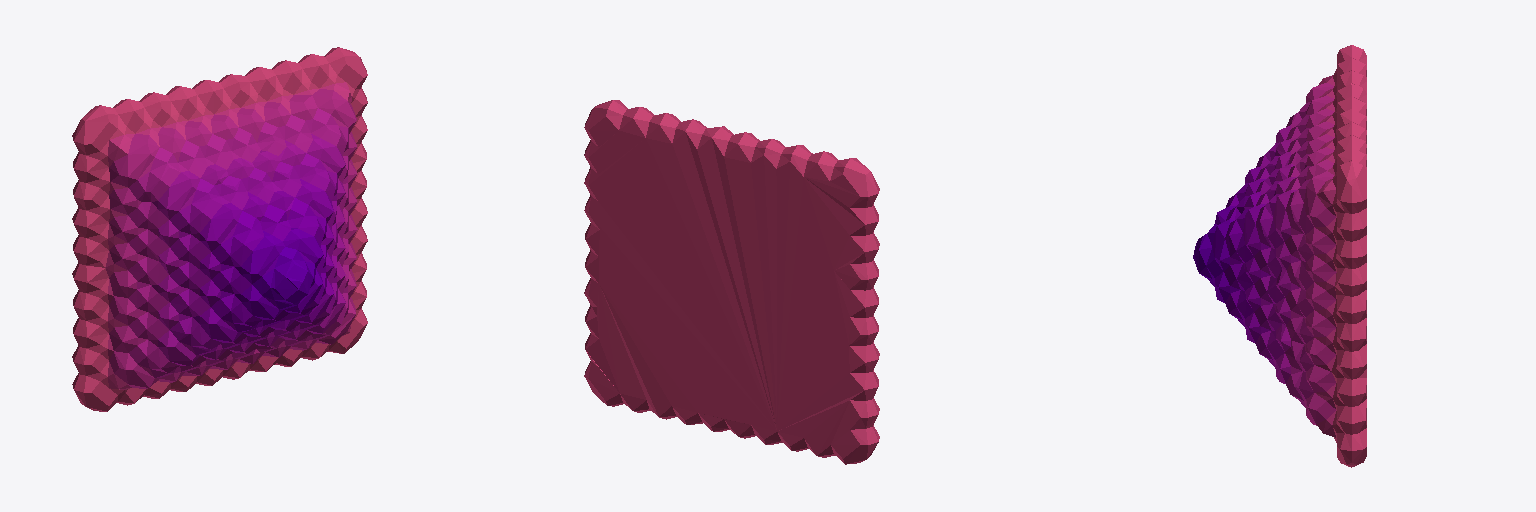
The model's file is testCode_Cmake_mac.obj.
The picture shows the model from 3 angles: view 1: azimuth 30°, elevation 25°; view 2: azimuth 150°, elevation 25°; view 3: azimuth 270°, elevation 25°; orthographic projection.
Parts seen in each view (by area): view 1: vivid_3d_obj; view 2: vivid_3d_obj; view 3: vivid_3d_obj.
Part boxes in pixels (x1,y1,x2,y2): vivid_3d_obj: (72,47,367,411); vivid_3d_obj: (584,100,879,464); vivid_3d_obj: (1193,45,1366,467).
Size of the model in its own units: 22.25 by 22.25 by 11.44.